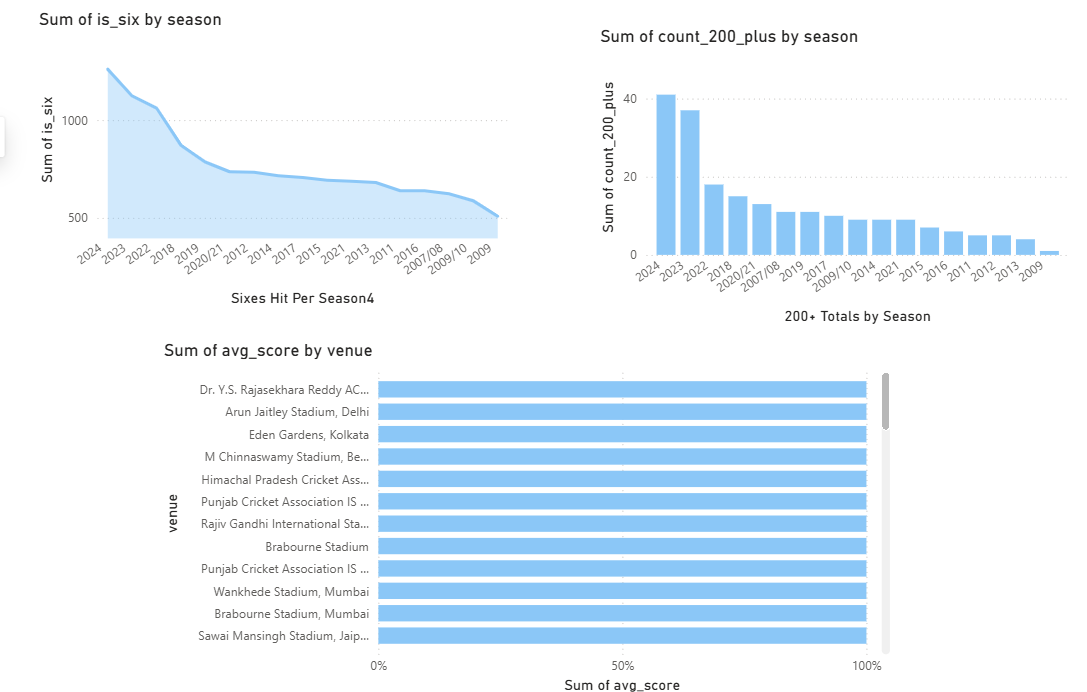

The dashboard page shown, as its layout file describes it:
{"tool":"powerbi","page":{"name":"Power Hitting & Venue Analysis","canvas":[1280,720],"ordinal":1},"visuals":[{"type":"areaChart","fields":{"Category":["boundary_stats.season"],"Y":["Sum(boundary_stats.is_six)"]},"box":[132.1,45.2,468.3,297.1],"z":0},{"type":"clusteredColumnChart","fields":{"Category":["scores_200.season"],"Y":["Sum(scores_200.count_200_plus)"]},"box":[681.1,62.4,468.3,297.1],"z":1},{"type":"hundredPercentStackedBarChart","fields":{"Category":["venue_avg.venue"],"Y":["Sum(venue_avg.avg_score)"]},"box":[254.3,369.3,720.2,351],"z":2}]}

Visuals, with their boxes on the page's 1280x720 design canvas (x1, y1, x2, y2). These are canvas units, not pixel positions in the 1087x692 screenshot, which may show the page scaled, cropped or inside an application window:
areaChart - boundary_stats.season x Sum(boundary_stats.is_six): detection(132, 45, 600, 342)
clusteredColumnChart - scores_200.season x Sum(scores_200.count_200_plus): detection(681, 62, 1149, 360)
hundredPercentStackedBarChart - venue_avg.venue x Sum(venue_avg.avg_score): detection(254, 369, 974, 720)
